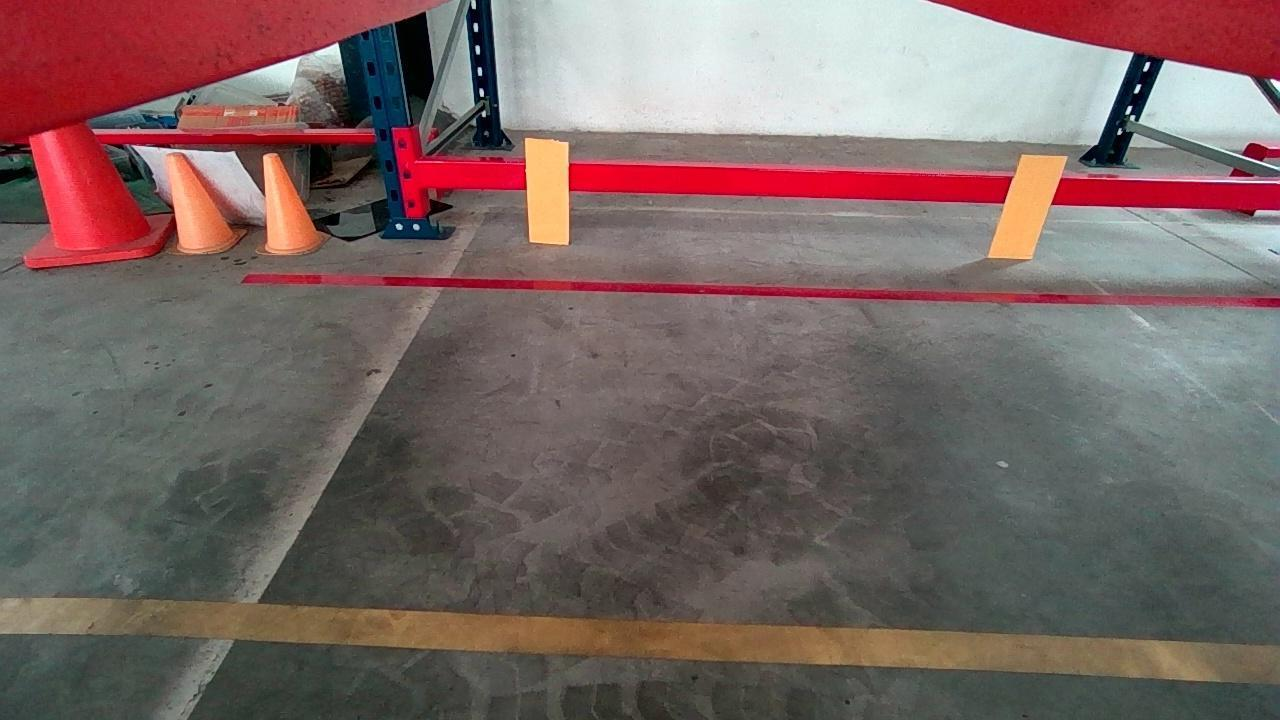h_rack: (422, 160, 1280, 209)
orange_strip: (988, 153, 1072, 262), (525, 139, 570, 242)
red_line: (241, 272, 1280, 308)
yellow_line: (2, 598, 1280, 684)
